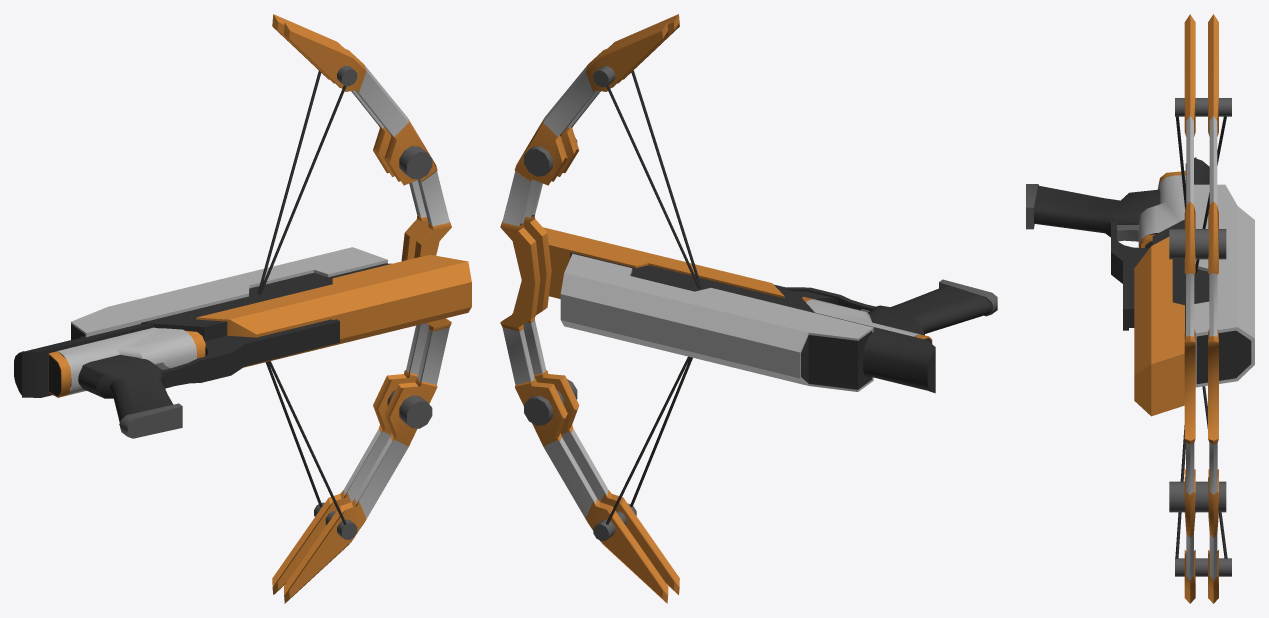
The model's file is qg-crossbow-2-lod1.glb.
The picture shows the model from 3 angles, left to right: view 1: azimuth 30°, elevation 25°; view 2: azimuth 150°, elevation 25°; view 3: azimuth 270°, elevation 25°; orthographic projection.
Parts seen in each view (by area): view 1: WeaponMesh_qg-crossbow-2_Crossbow_2; view 2: WeaponMesh_qg-crossbow-2_Crossbow_2; view 3: WeaponMesh_qg-crossbow-2_Crossbow_2.
Boxes of the visible parts, left/top/right/bottom form: WeaponMesh_qg-crossbow-2_Crossbow_2: left=14, top=14, right=471, bottom=603; WeaponMesh_qg-crossbow-2_Crossbow_2: left=500, top=14, right=997, bottom=603; WeaponMesh_qg-crossbow-2_Crossbow_2: left=1026, top=14, right=1254, bottom=603.
Bounding box in the file's own units: 0.8429 × 1.1 × 0.3866.
